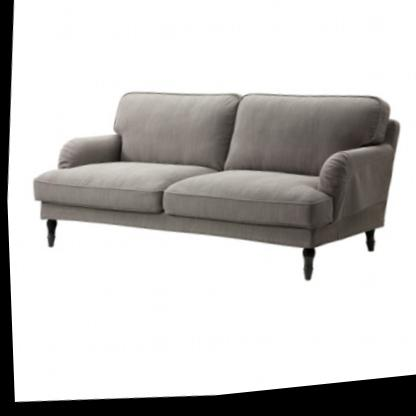Sofa: (17, 60, 411, 319)
